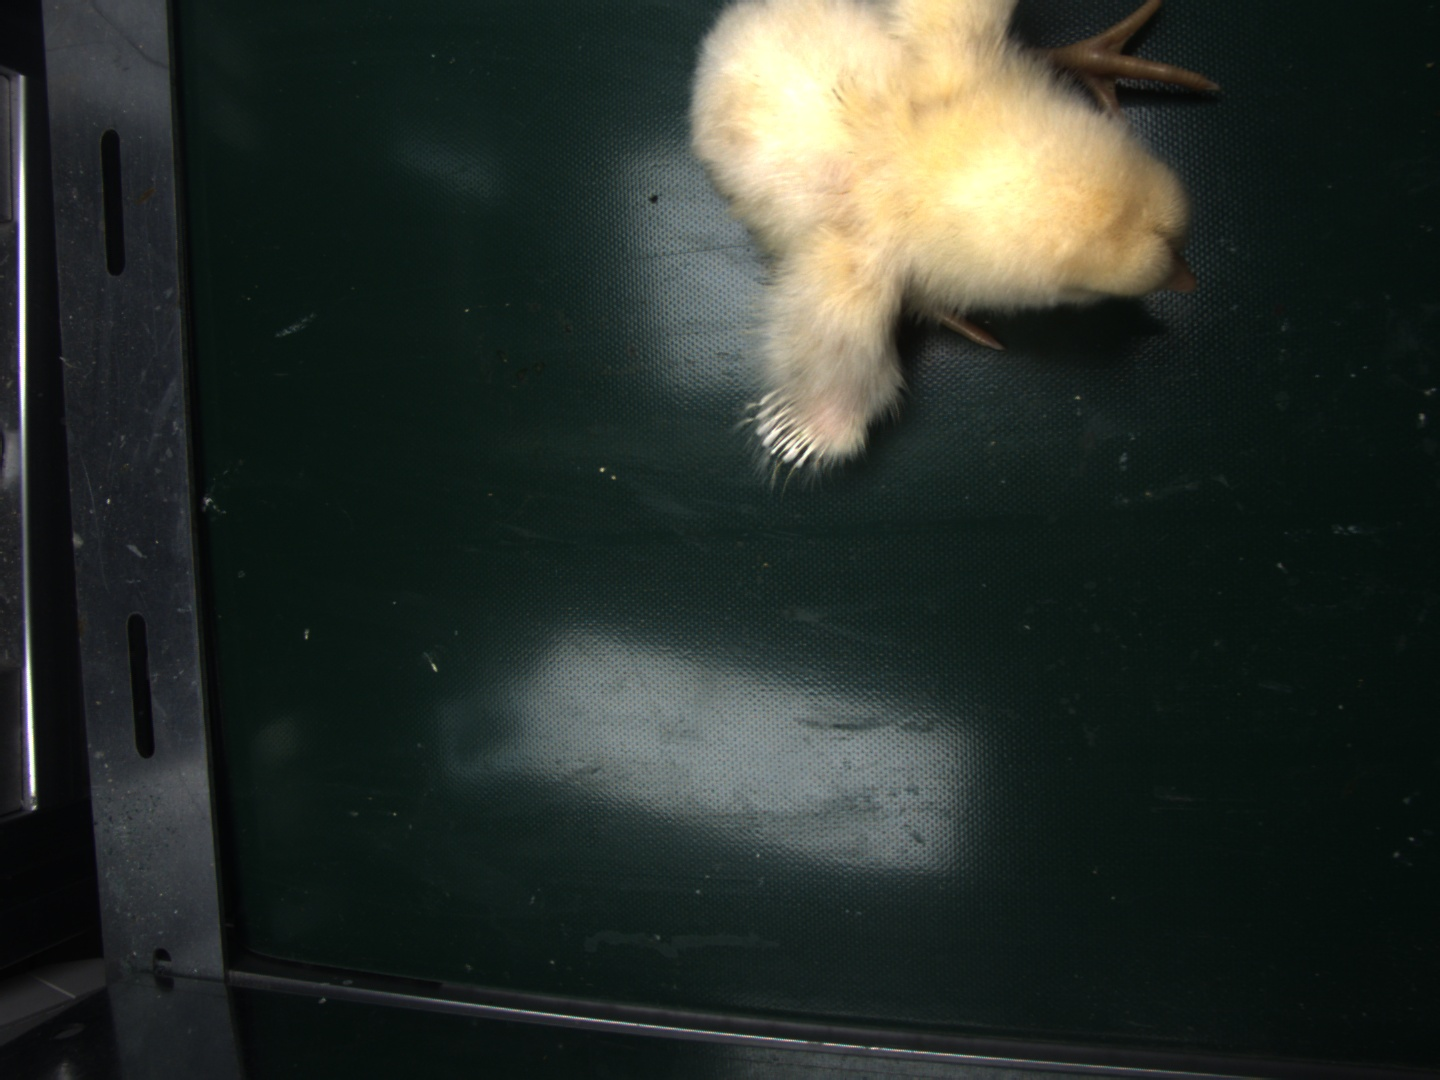male: (751, 389, 825, 469)
